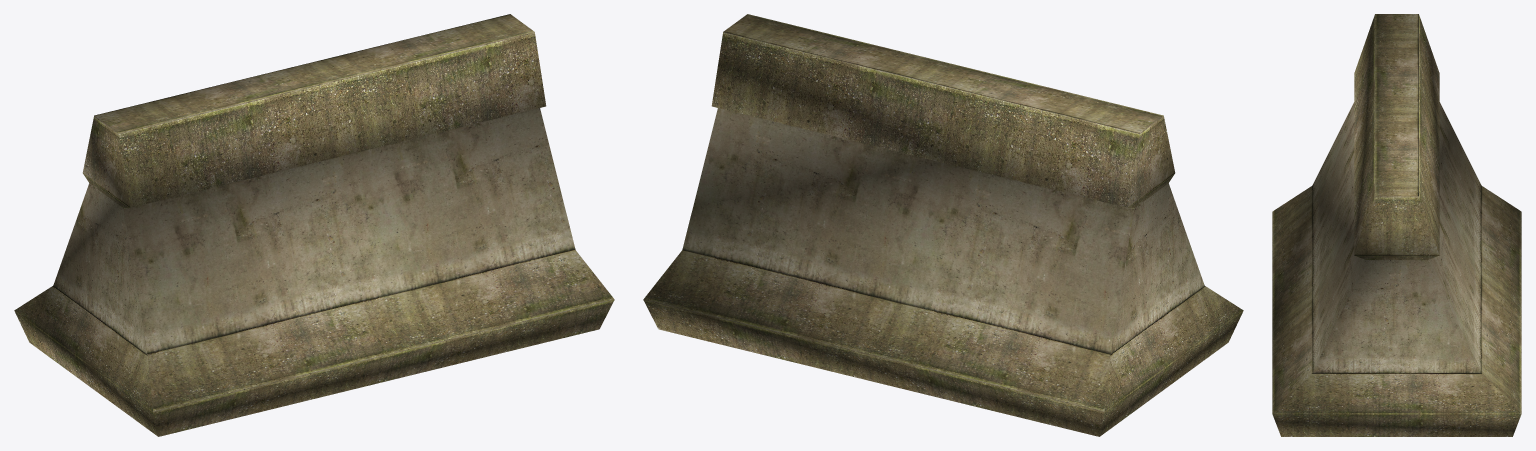
The model's file is Mode_ConcreteRoadblock.fbx.
The picture shows the model from 3 angles, left to right: view 1: azimuth 30°, elevation 25°; view 2: azimuth 150°, elevation 25°; view 3: azimuth 270°, elevation 25°; orthographic projection. The views are drawn at different scales.
Visible parts, largest first — view 1: ConcreteRoadBlock; view 2: ConcreteRoadBlock; view 3: ConcreteRoadBlock.
Part boxes in pixels (<box>): ConcreteRoadBlock: <box>14,14,614,436</box>; ConcreteRoadBlock: <box>643,14,1243,436</box>; ConcreteRoadBlock: <box>1272,14,1521,436</box>.
Bounding box in the file's own units: 207 × 112 × 108.
